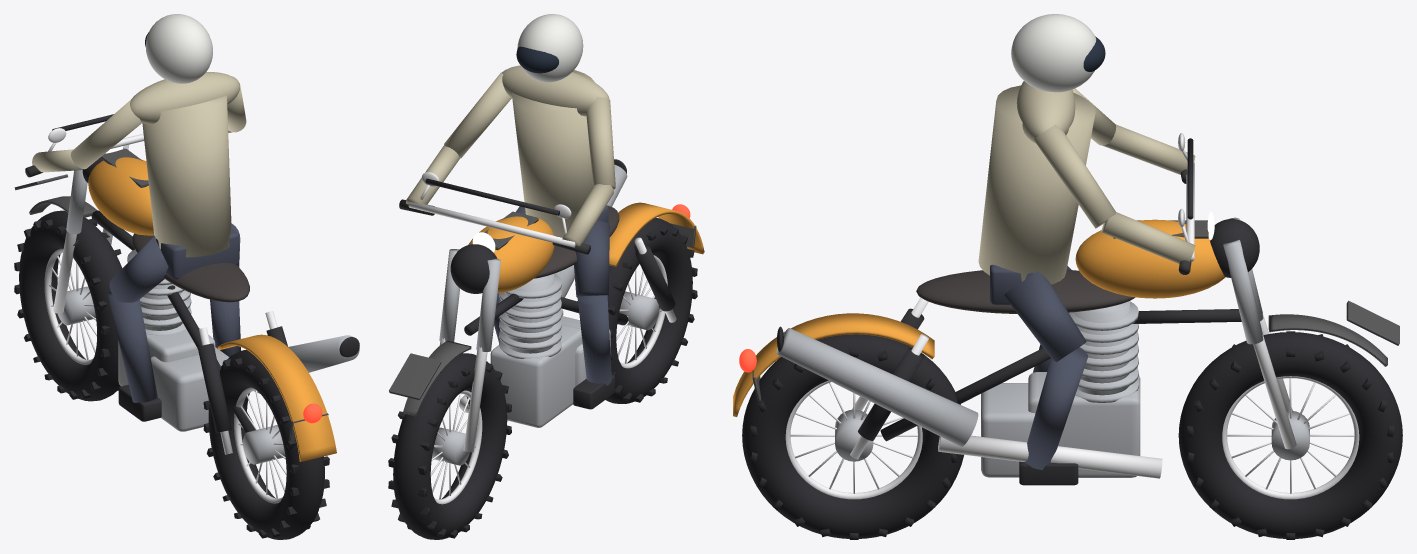
Rendered from scrambler.glb.
The picture shows the model from 3 angles, left to right: view 1: azimuth 30°, elevation 25°; view 2: azimuth 150°, elevation 25°; view 3: azimuth 270°, elevation 25°; orthographic projection. The views are drawn at different scales.
Parts seen in each view (by area): view 1: rider_jacket, wheel_f_rubber, wheel_r_rubber, body_alu, body_paint, rider_pants, body_black, rider_helmet, body_seat, body_chrome, wheel_r_chrome, wheel_f_chrome (+4 smaller); view 2: rider_jacket, body_alu, wheel_f_rubber, wheel_r_rubber, body_paint, rider_pants, body_black, body_chrome, body_accent, rider_helmet, wheel_f_chrome, wheel_r_chrome (+6 smaller); view 3: rider_jacket, body_alu, wheel_f_rubber, wheel_r_rubber, body_paint, rider_pants, body_black, body_chrome, rider_helmet, body_seat, wheel_f_chrome, body_accent (+4 smaller).
Boxes of the visible parts, left/top/right/bottom form: rider_jacket: left=32, top=72, right=246, bottom=257; wheel_f_rubber: left=14, top=210, right=122, bottom=401; wheel_r_rubber: left=203, top=350, right=329, bottom=539; body_alu: left=66, top=144, right=359, bottom=431; body_paint: left=88, top=157, right=336, bottom=461; rider_pants: left=108, top=223, right=241, bottom=402; body_black: left=52, top=114, right=359, bottom=433; rider_helmet: left=146, top=14, right=212, bottom=83; body_seat: left=132, top=233, right=249, bottom=302; body_chrome: left=48, top=128, right=277, bottom=454; wheel_r_chrome: left=234, top=387, right=286, bottom=503; wheel_f_chrome: left=44, top=248, right=96, bottom=364; rider_jacket: left=406, top=65, right=615, bottom=246; body_alu: left=439, top=164, right=627, bottom=427; wheel_f_rubber: left=388, top=353, right=511, bottom=539; wheel_r_rubber: left=577, top=218, right=697, bottom=403; body_paint: left=468, top=202, right=704, bottom=293; rider_pants: left=494, top=205, right=611, bottom=385; body_black: left=425, top=159, right=675, bottom=335; body_chrome: left=408, top=172, right=676, bottom=452; body_accent: left=389, top=211, right=696, bottom=416; rider_helmet: left=517, top=14, right=583, bottom=82; wheel_f_chrome: left=430, top=390, right=482, bottom=504; wheel_r_chrome: left=616, top=255, right=667, bottom=368; rider_jacket: left=978, top=81, right=1195, bottom=284; body_alu: left=776, top=217, right=1263, bottom=477; wheel_f_rubber: left=1178, top=331, right=1402, bottom=539; wheel_r_rubber: left=742, top=334, right=963, bottom=539; body_paint: left=733, top=219, right=1225, bottom=416; rider_pants: left=990, top=264, right=1087, bottom=469; body_black: left=777, top=138, right=1259, bottom=441; body_chrome: left=850, top=133, right=1296, bottom=478; rider_helmet: left=1011, top=14, right=1096, bottom=92; body_seat: left=916, top=269, right=1135, bottom=313; wheel_f_chrome: left=1222, top=376, right=1359, bottom=499; body_accent: left=752, top=220, right=1399, bottom=400.
Bounding box in the file's own units: 0.8637 × 1.95 × 2.27.
